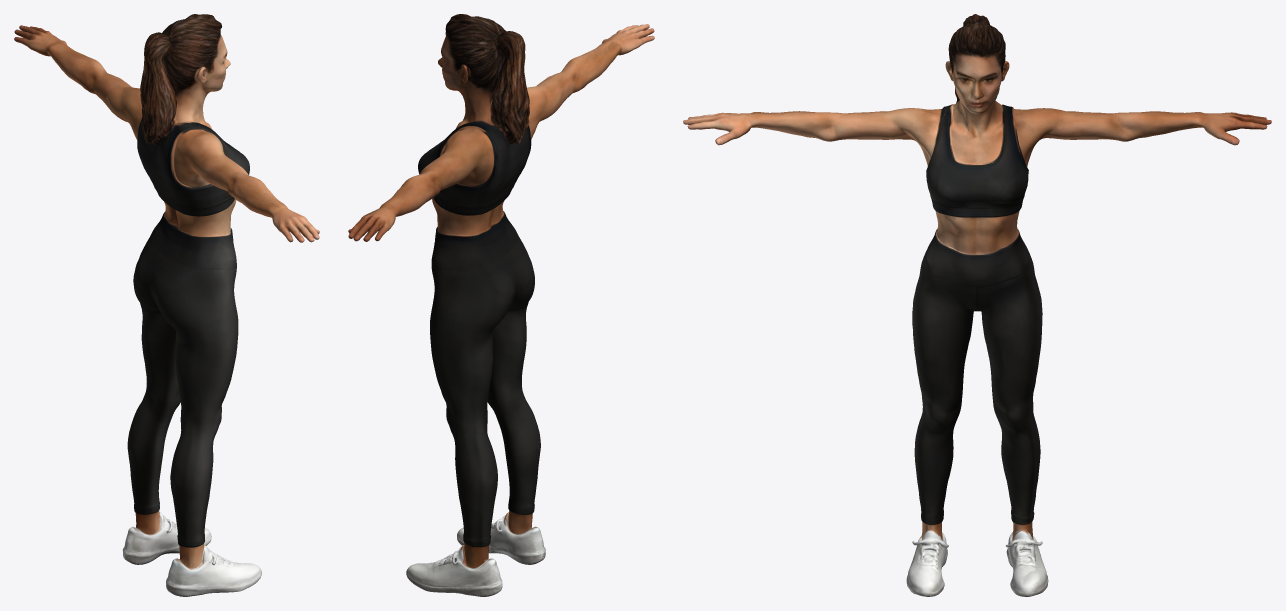
The model's file is woman.glb.
3 renders of one model, left to right at view 1: azimuth 30°, elevation 25°; view 2: azimuth 150°, elevation 25°; view 3: azimuth 270°, elevation 25°, orthographic.
Visible parts, largest first — view 1: tripo_node_9d0a1c75-74a4-4d0c-8585-d7cdb3a64492; view 2: tripo_node_9d0a1c75-74a4-4d0c-8585-d7cdb3a64492; view 3: tripo_node_9d0a1c75-74a4-4d0c-8585-d7cdb3a64492.
Boxes of the visible parts, x1,y1,x2,y2 form: tripo_node_9d0a1c75-74a4-4d0c-8585-d7cdb3a64492: (14,14,319,596); tripo_node_9d0a1c75-74a4-4d0c-8585-d7cdb3a64492: (348,14,654,596); tripo_node_9d0a1c75-74a4-4d0c-8585-d7cdb3a64492: (683,14,1271,596).
Size of the model in its own units: 0.1752 by 1 by 0.9588.
Materials: 1 (1 with a texture image).
